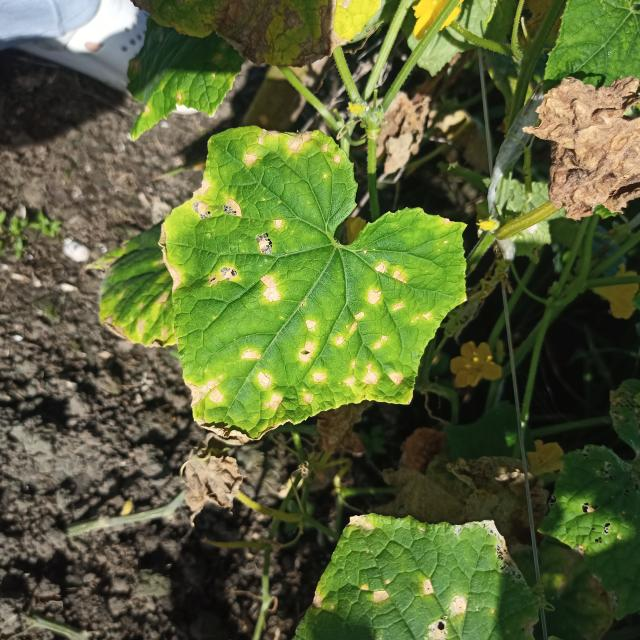disease_cucumber: (161, 125, 435, 422)
